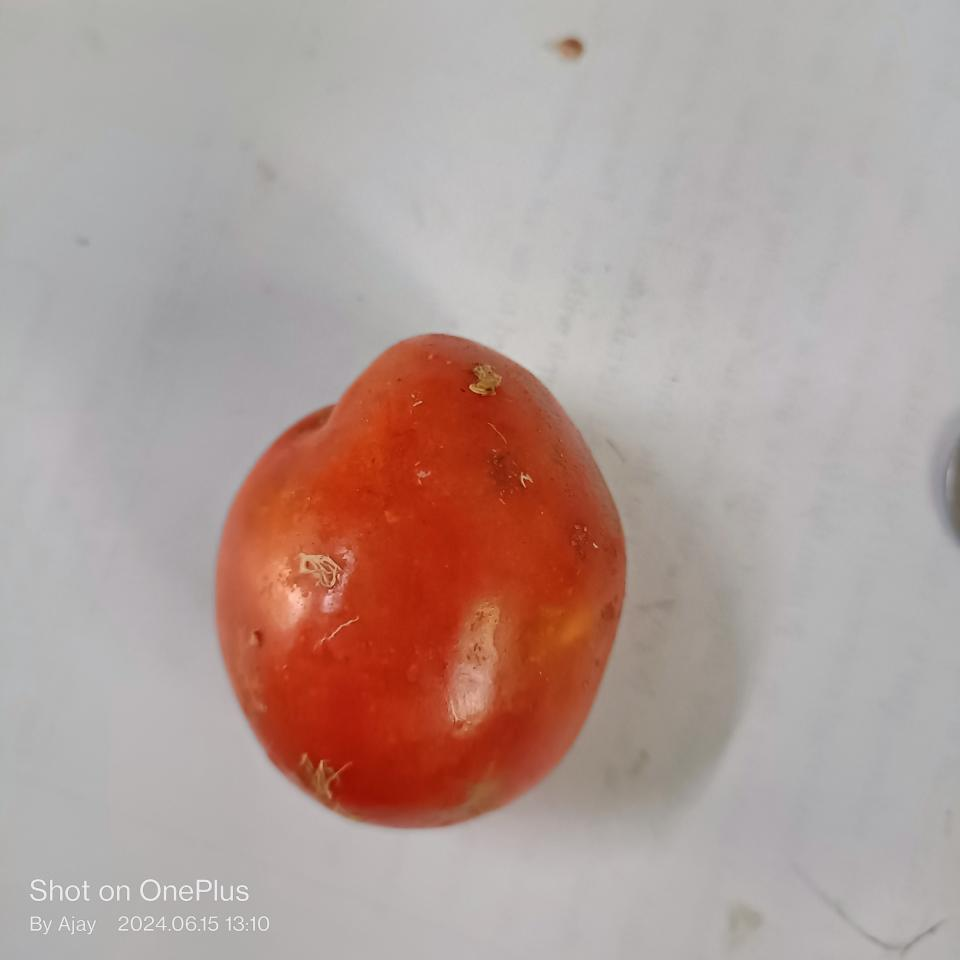Bacterial_Spot: (458, 358, 514, 404)
